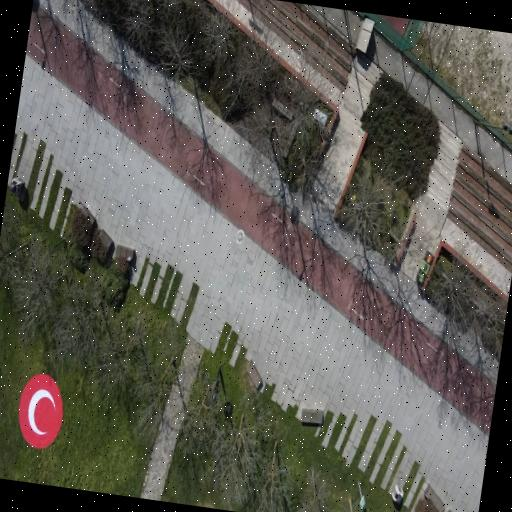UAI: (19, 375, 63, 448)
